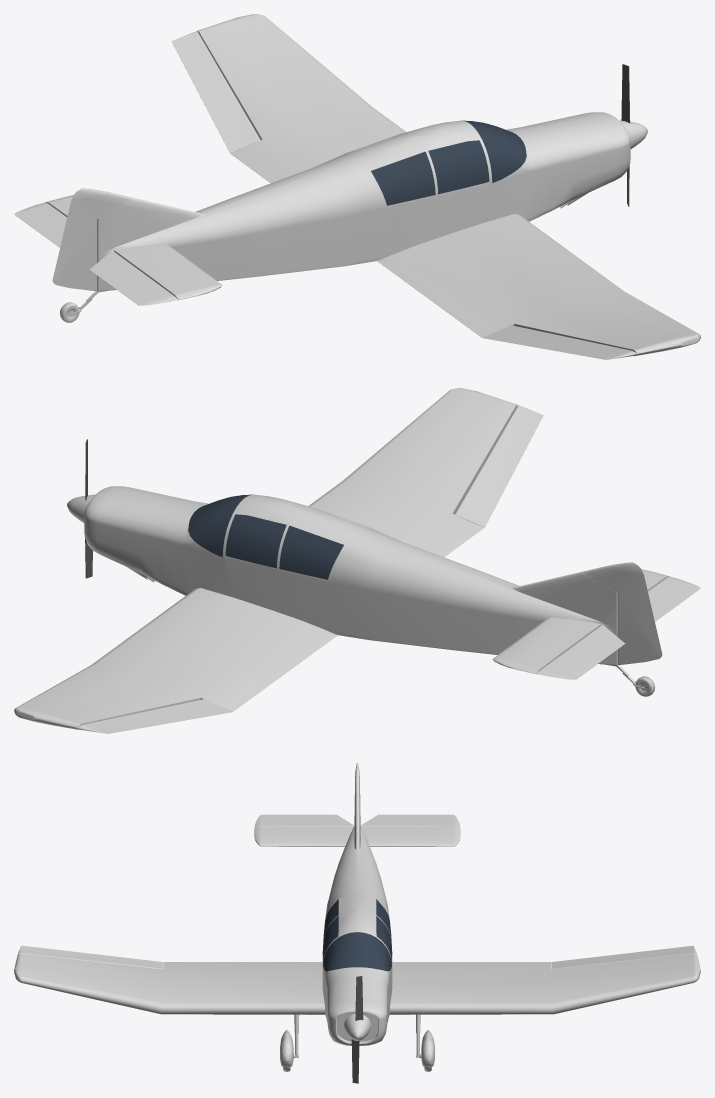
3 views of the same model, one above another, from view 1: azimuth 30°, elevation 25°; view 2: azimuth 150°, elevation 25°; view 3: azimuth 270°, elevation 25° (orthographic). The views are drawn at different scales.
Parts seen in each view (by area): view 1: body, glass, spin; view 2: body, glass; view 3: body, glass, spin.
Part boxes in pixels (x1=…): body: x1=14, y1=14, x2=700, y2=359; glass: x1=371, y1=120, x2=526, y2=205; spin: x1=621, y1=64, x2=630, y2=206; body: x1=14, y1=388, x2=700, y2=733; glass: x1=188, y1=494, x2=343, y2=579; body: x1=14, y1=762, x2=700, y2=1071; glass: x1=322, y1=899, x2=392, y2=971; spin: x1=351, y1=976, x2=363, y2=1083.
Size of the model in its own units: 1.7 by 0.5351 by 2.2.
